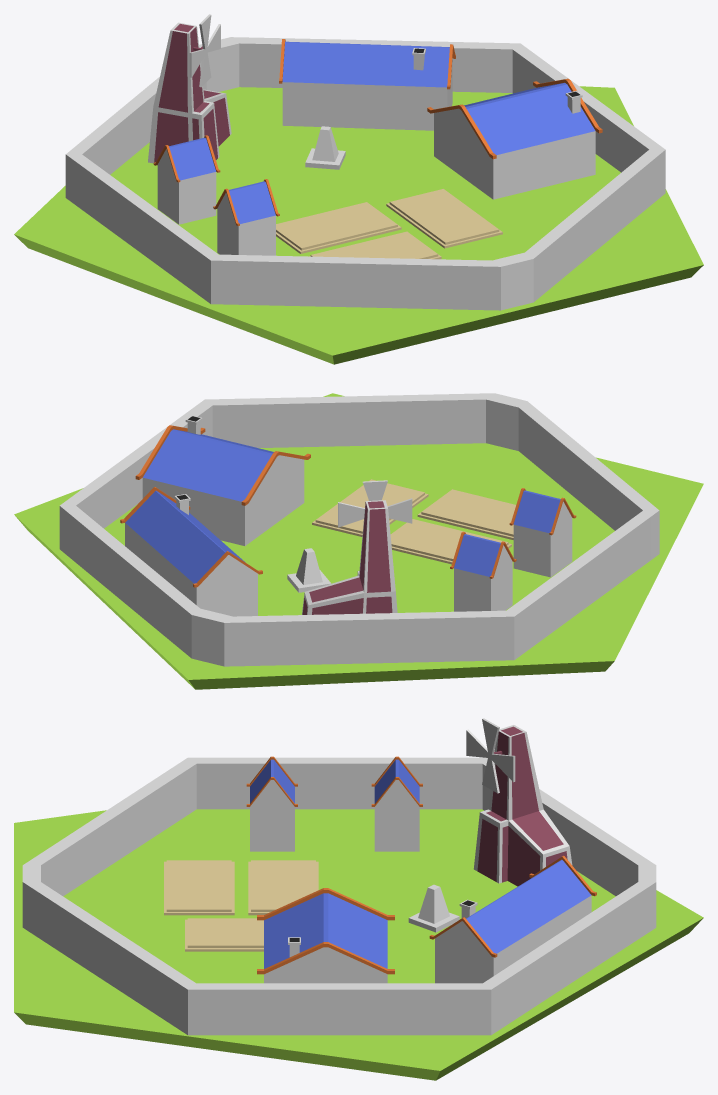
The model's file is VilleViking_3.fbx.
3 views of the same model, one above another, from view 1: azimuth 30°, elevation 25°; view 2: azimuth 150°, elevation 25°; view 3: azimuth 270°, elevation 25° (orthographic). The views are drawn at different scales.
Parts seen in each view (by area): view 1: tiles; view 2: tiles; view 3: tiles.
Part boxes in pixels (x1,y1,x2,y2): tiles: (14, 14, 703, 364); tiles: (14, 393, 703, 689); tiles: (14, 718, 703, 1080).
Bounding box in the file's own units: 111 × 28.12 × 105.
